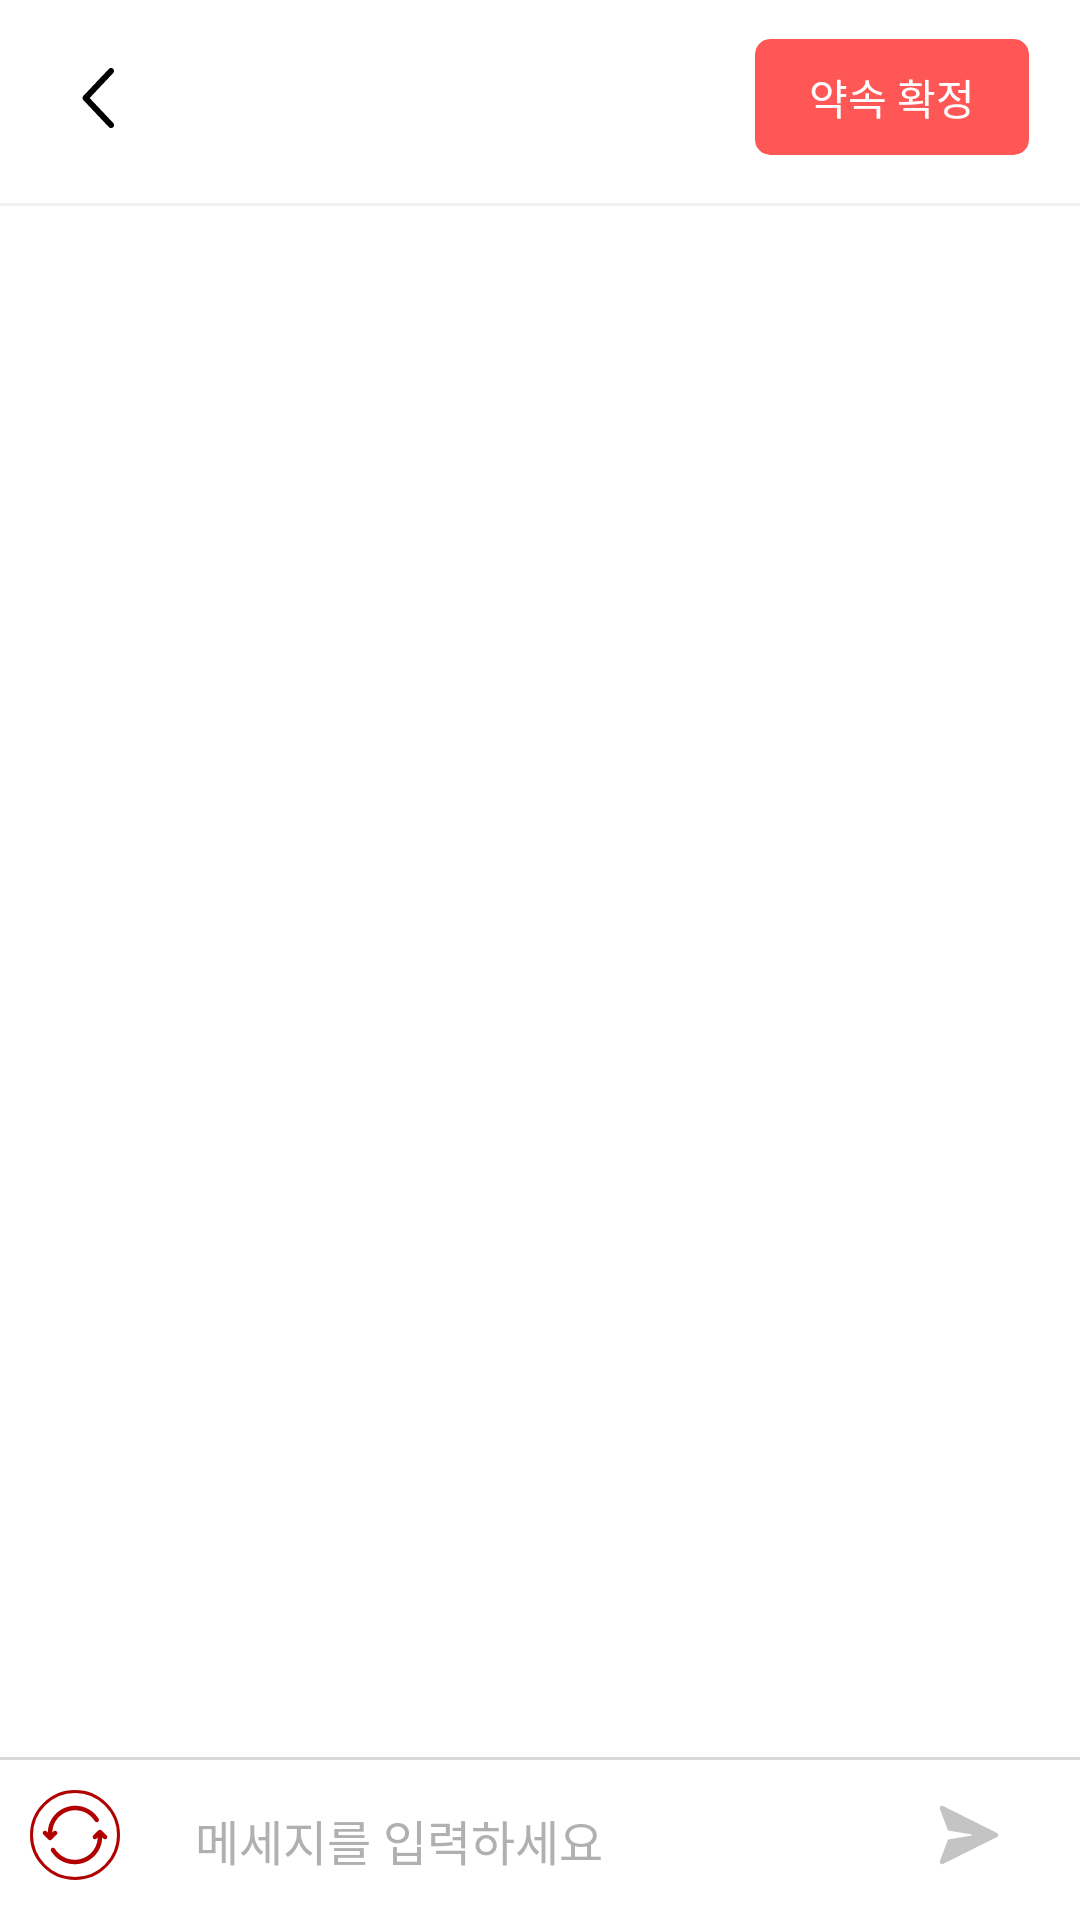

Where to tap for icons on this 1080 x 1920 app screen, as point (x, y):
back: point (98, 98)
refresh: point (75, 1835)
send: point (969, 1835)
